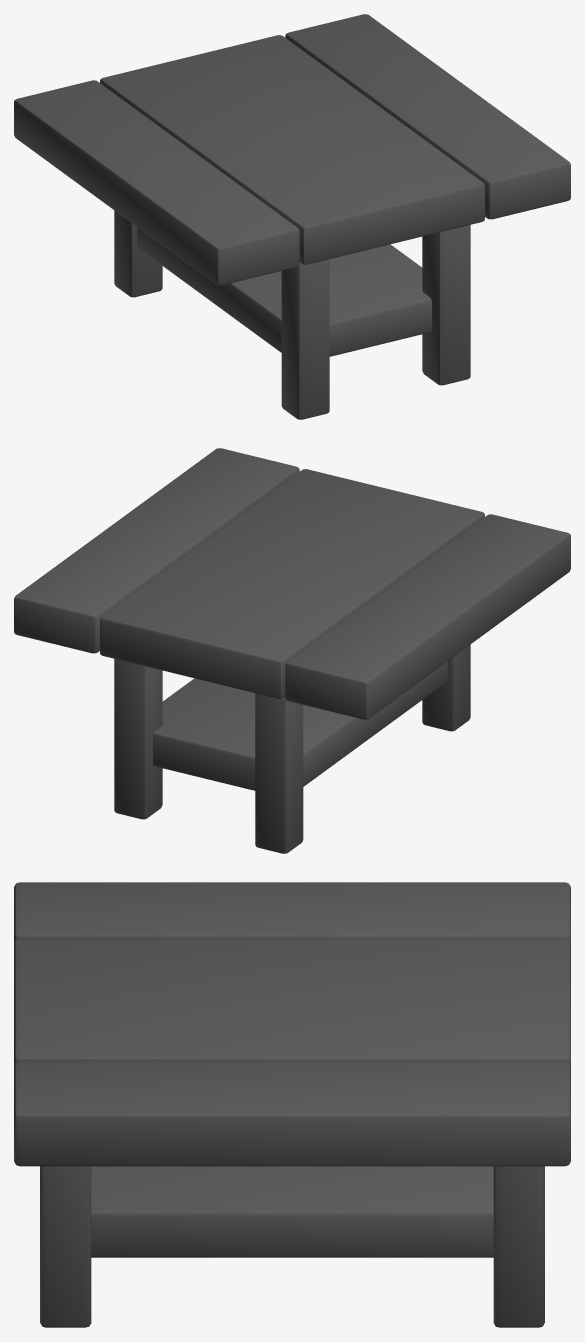
The model's file is MDL_FoldingStation.fbx.
3 renders of one model, top to bottom at view 1: azimuth 30°, elevation 25°; view 2: azimuth 150°, elevation 25°; view 3: azimuth 270°, elevation 25°, orthographic. The views are drawn at different scales.
Parts seen in each view (by area): view 1: mesh_foldingstation; view 2: mesh_foldingstation; view 3: mesh_foldingstation.
Part boxes in pixels (<box>): mesh_foldingstation: <box>14,14,570,419</box>; mesh_foldingstation: <box>14,448,570,853</box>; mesh_foldingstation: <box>14,882,570,1327</box>.
Size of the model in its own units: 99.75 by 54.35 by 100.
Materials: 1 (1 with a texture image).
